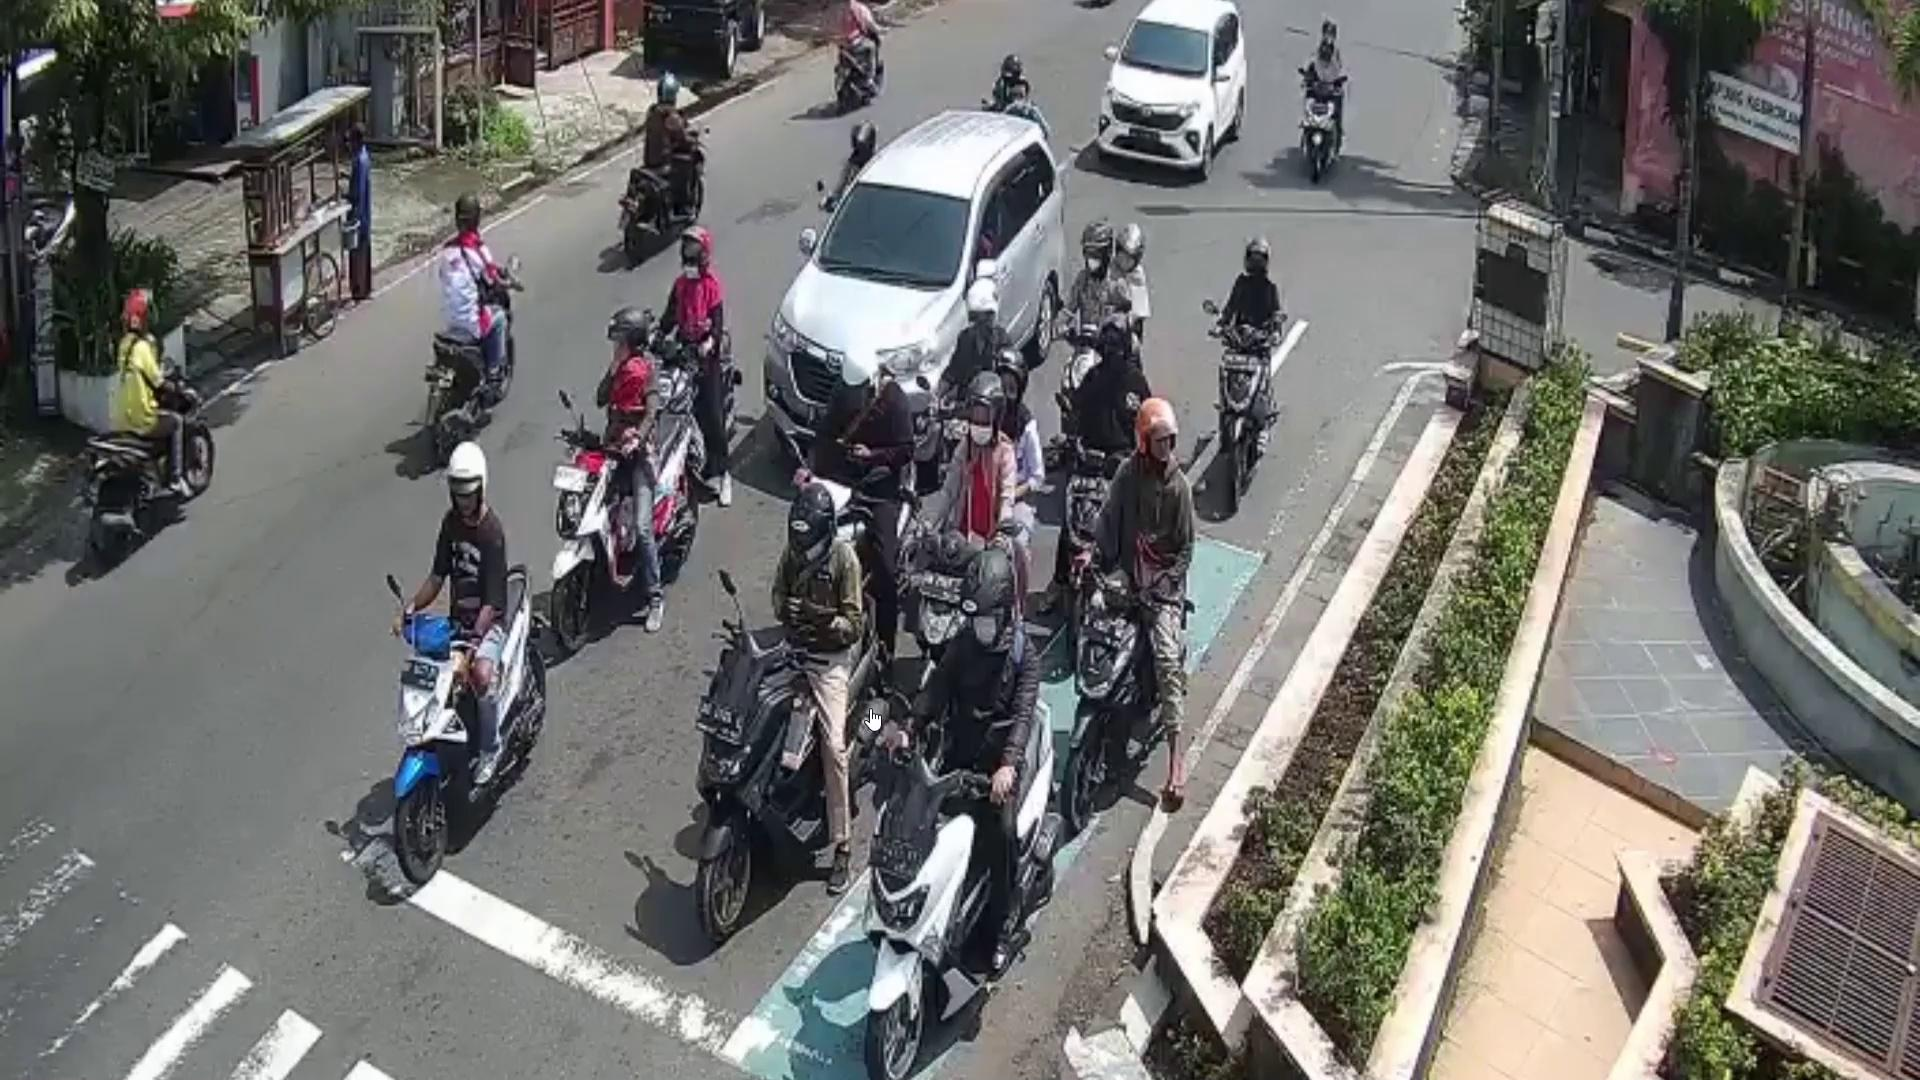car: (766, 107, 1068, 460), (1114, 0, 1257, 165)
motorbike: (868, 694, 1060, 1080), (699, 607, 885, 943), (389, 560, 546, 890), (545, 405, 692, 650), (1077, 579, 1195, 825), (82, 361, 214, 563), (429, 261, 522, 462), (622, 125, 705, 258), (1215, 320, 1270, 508), (1299, 76, 1346, 189)
